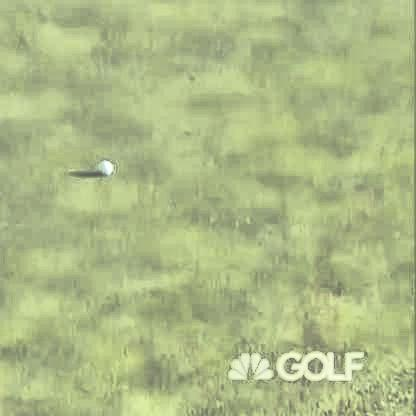golfball: (97, 157, 113, 173)
